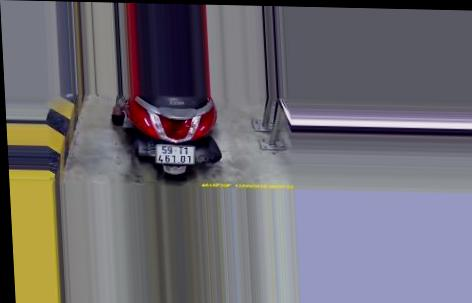License_Plate: (154, 141, 199, 167)
